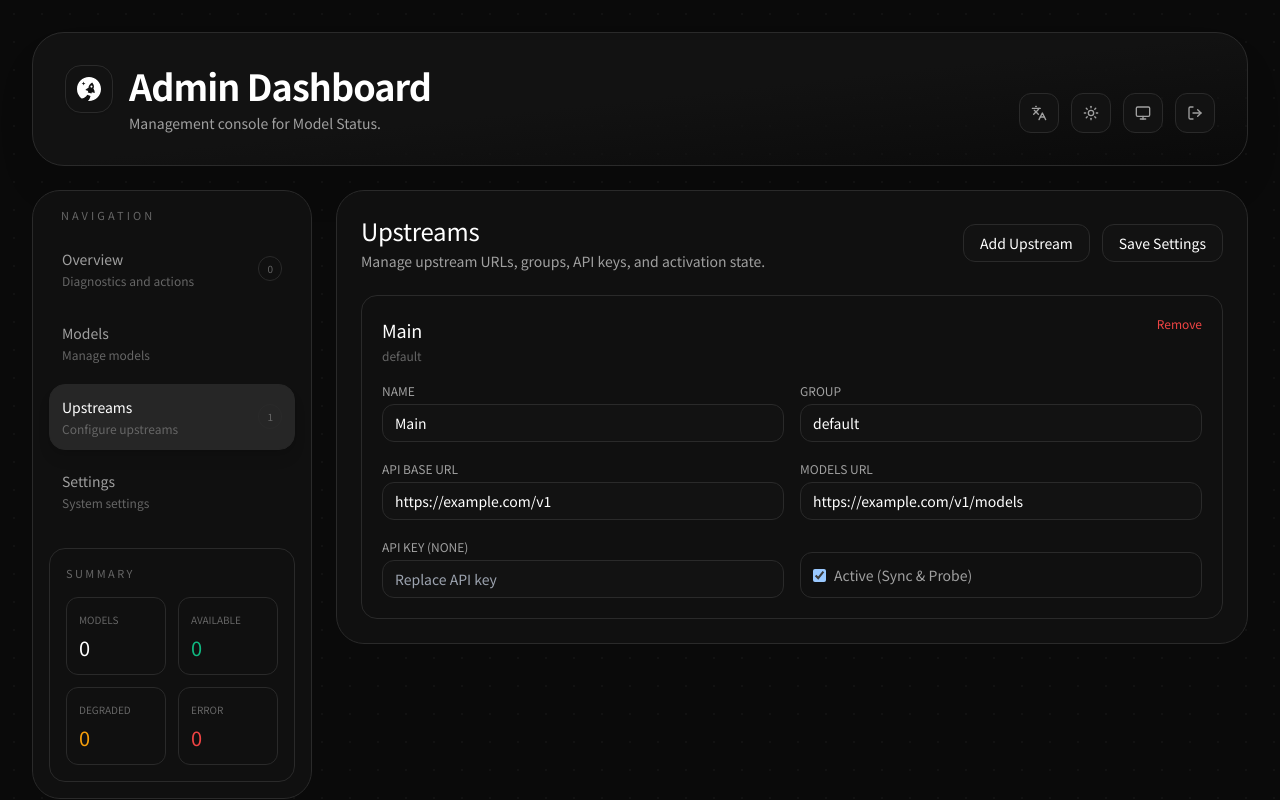
AdminPanel › shows upstream sync errors after saving settings
This screenshot has width=1280, height=800.
Type "sk-test" into the field with placeholder "Replace API key" at (583, 579), box [382, 560, 784, 598]
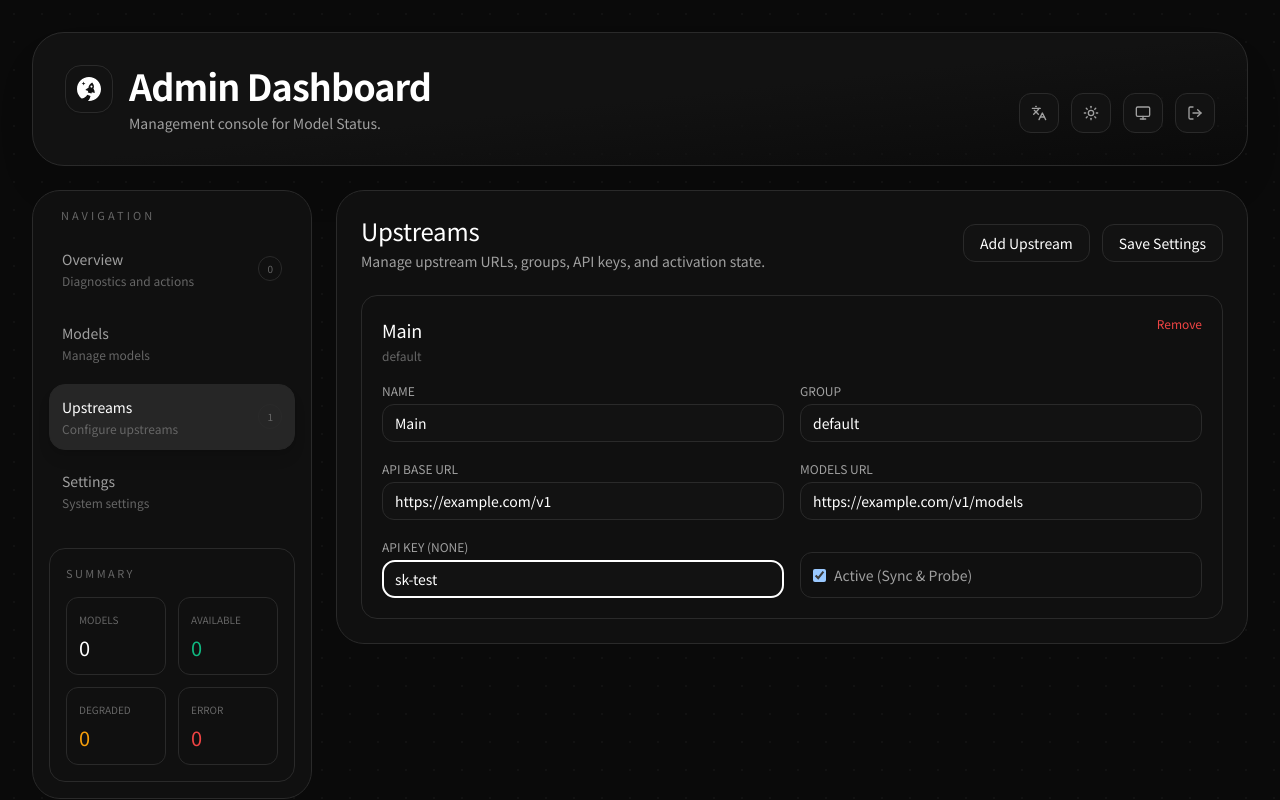
Click the button "Save Settings" at (1162, 243), box [1102, 224, 1223, 262]
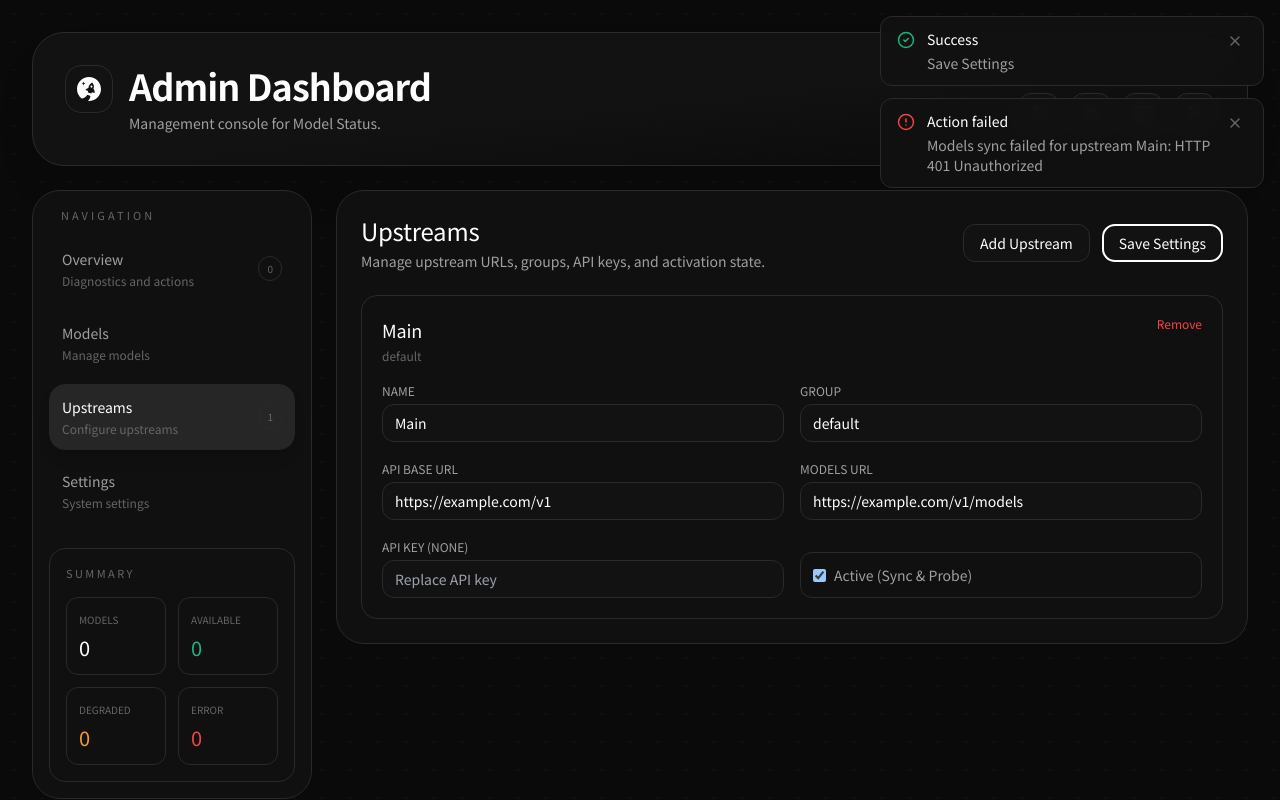
expect the text "Models sync failed for upstream Main: HTTP 401 Unauthorized" is shown: met, box [927, 135, 1211, 175]
